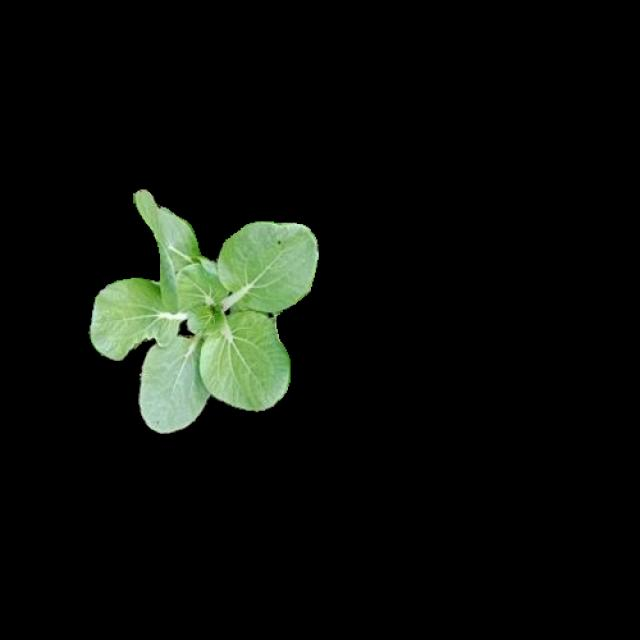not-mature: (90, 191, 316, 429)
unhealthy: (91, 278, 183, 361)
